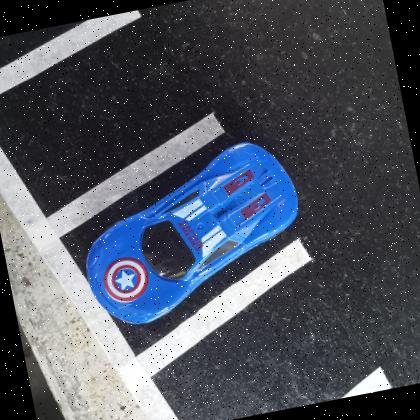Car: (85, 142, 300, 328)
